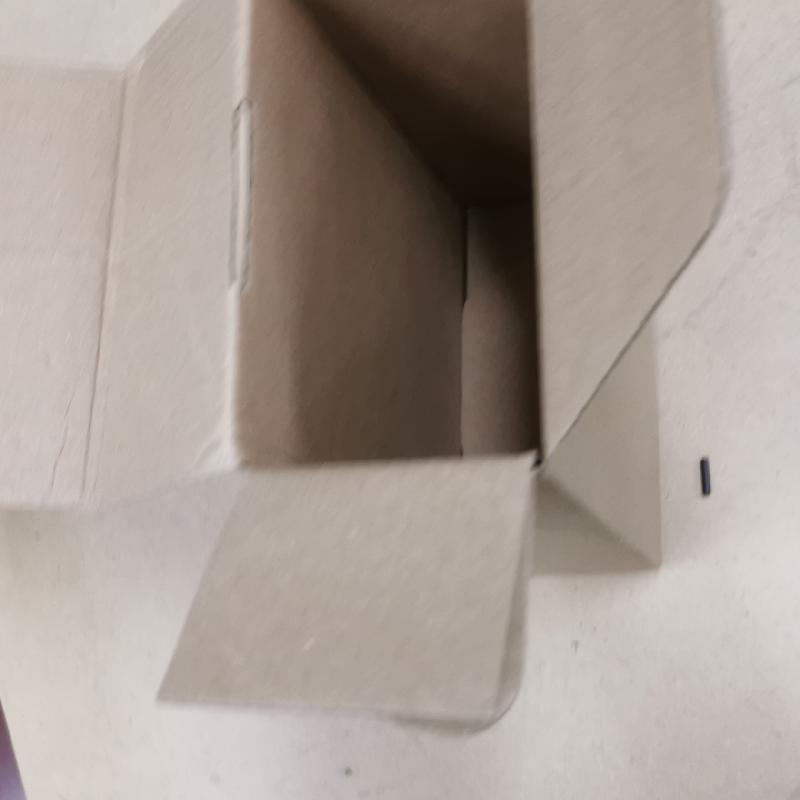boxes: (4, 4, 722, 738)
